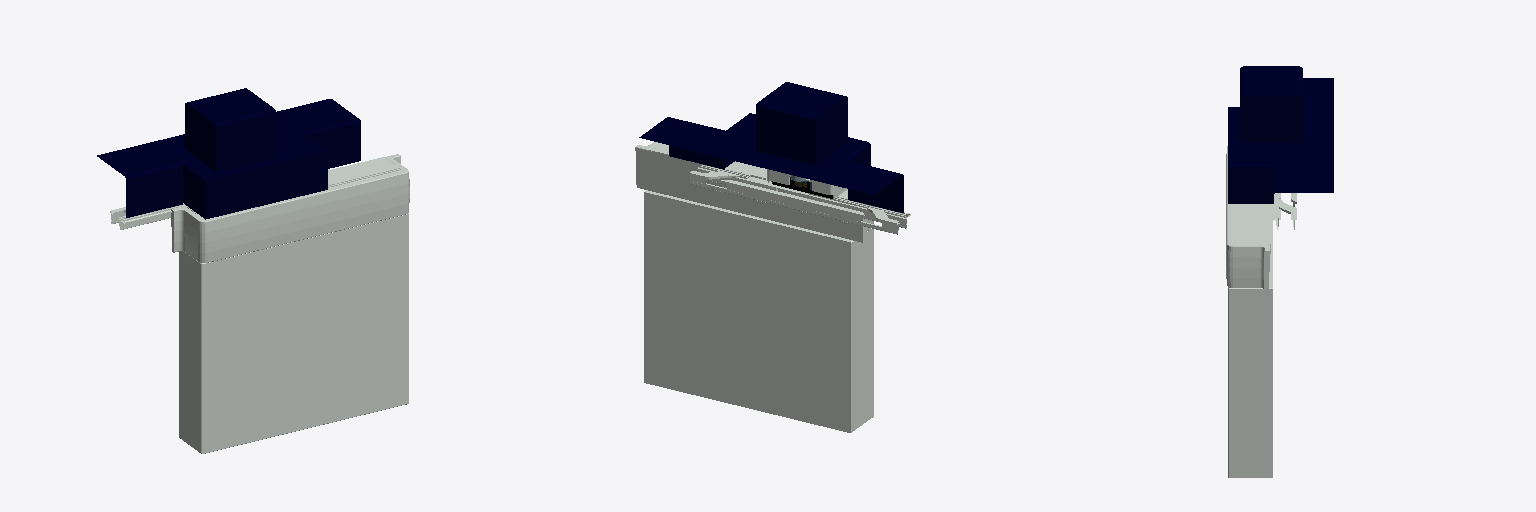
File: Recapper.obj
The picture shows the model from 3 angles: view 1: azimuth 30°, elevation 25°; view 2: azimuth 150°, elevation 25°; view 3: azimuth 270°, elevation 25°; orthographic projection.
Visible parts, largest first — view 1: object1, object26, object28, object27, object2, object24, object22; view 2: object1, object26, object27, object24, object22, object5, object2; view 3: object1, object26, object27, object28, object2, object24.
Part boxes in pixels (left/top/right/bottom): object1: left=179, top=213, right=408, bottom=453; object26: left=97, top=99, right=360, bottom=219; object28: left=190, top=164, right=409, bottom=262; object27: left=185, top=88, right=276, bottom=171; object2: left=185, top=157, right=398, bottom=215; object24: left=171, top=154, right=400, bottom=253; object22: left=110, top=169, right=329, bottom=229; object1: left=644, top=190, right=873, bottom=432; object26: left=639, top=113, right=903, bottom=212; object27: left=756, top=82, right=847, bottom=165; object24: left=635, top=143, right=865, bottom=242; object22: left=689, top=164, right=910, bottom=234; object5: left=767, top=169, right=846, bottom=198; object2: left=649, top=143, right=847, bottom=197; object1: left=1228, top=220, right=1272, bottom=477; object26: left=1228, top=78, right=1333, bottom=203; object27: left=1240, top=66, right=1302, bottom=142; object28: left=1226, top=146, right=1248, bottom=287; object2: left=1241, top=204, right=1270, bottom=243; object24: left=1255, top=244, right=1270, bottom=291.
Bounding box in the file's own units: 45.68 × 51.01 × 15.54.